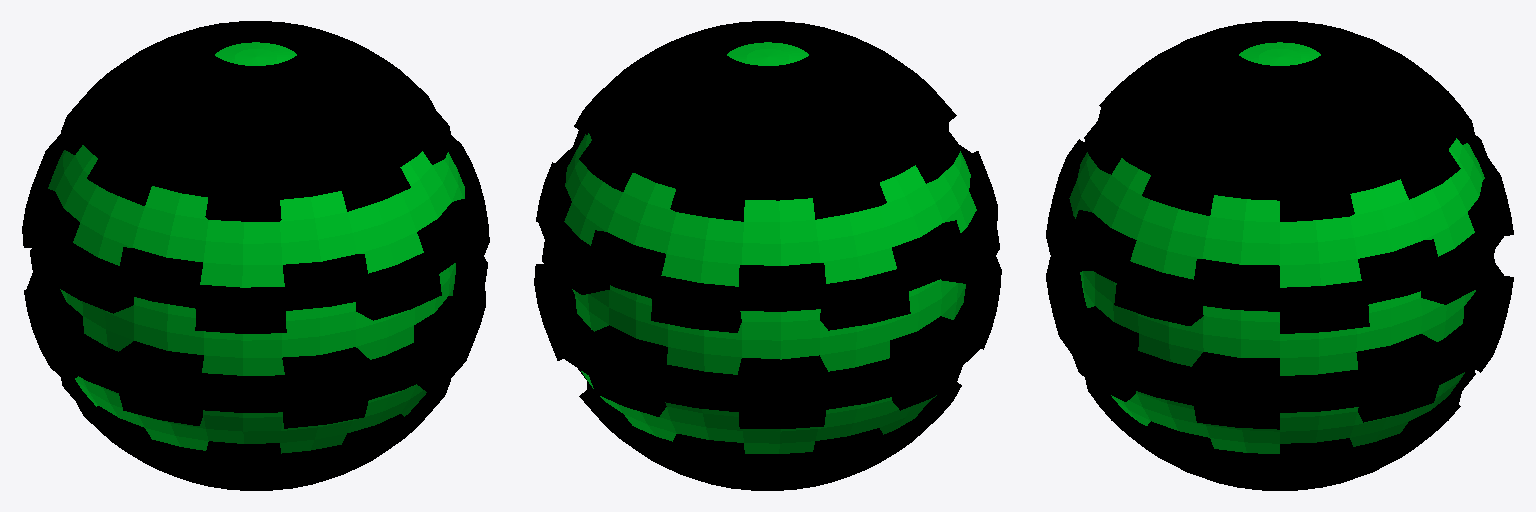
3 renders of one model, left to right at view 1: azimuth 30°, elevation 25°; view 2: azimuth 150°, elevation 25°; view 3: azimuth 270°, elevation 25°, orthographic.
Visible parts, largest first — view 1: sphere1; view 2: sphere1; view 3: sphere1.
Boxes of the visible parts, x1,y1,x2,y2 form: sphere1: [22, 21, 489, 490]; sphere1: [534, 21, 1001, 490]; sphere1: [1046, 21, 1513, 490].
Bounding box in the file's own units: 1.99 × 1.96 × 1.99.
Materials: 1 (1 with a texture image).